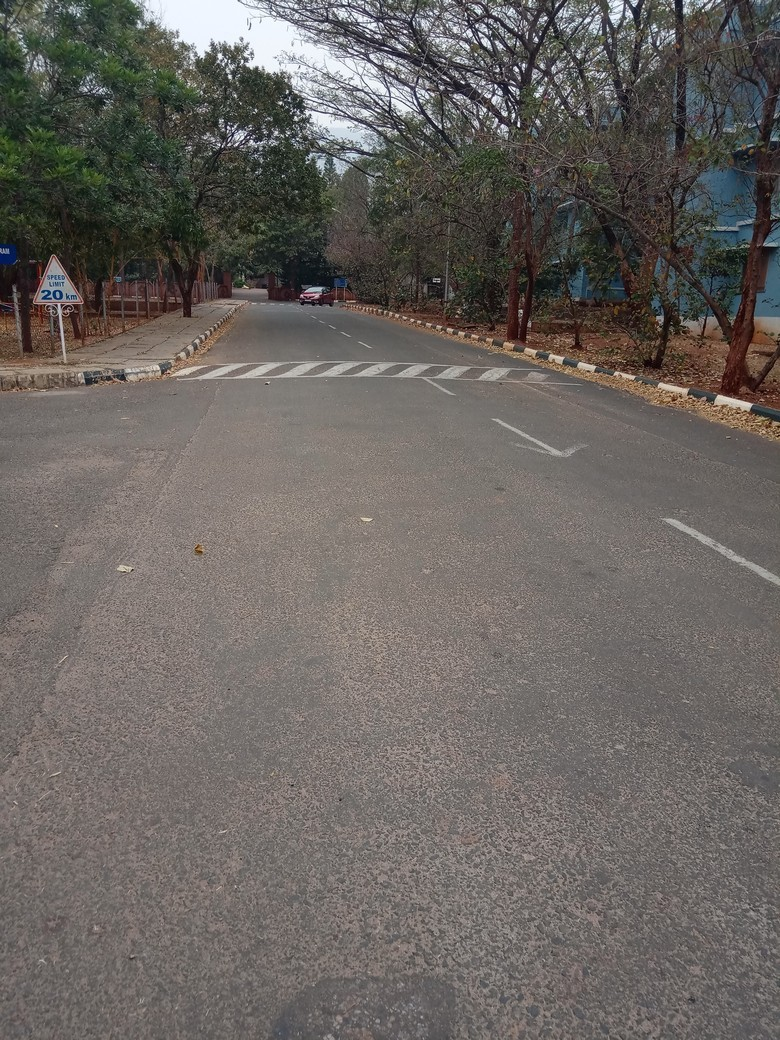bump: (181, 359, 567, 384)
